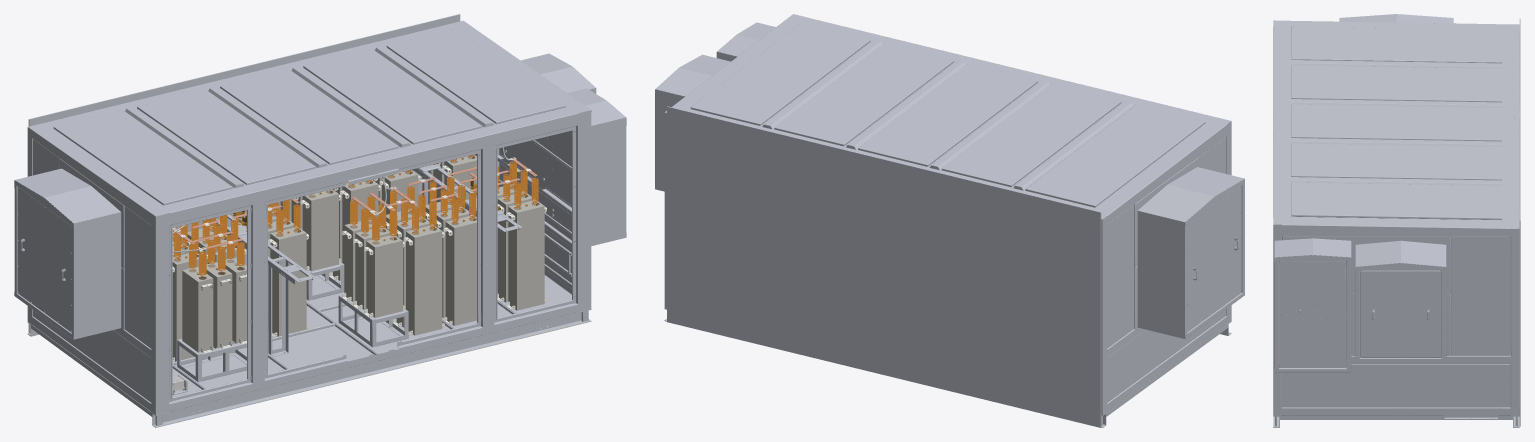
File: panel_optimized_v4.glb
The picture shows the model from 3 angles, left to right: view 1: azimuth 30°, elevation 25°; view 2: azimuth 150°, elevation 25°; view 3: azimuth 270°, elevation 25°; orthographic projection. The views are drawn at different scales.
Parts seen in each view (by area): view 1: frame_structure, cable_assembly, door_panel_center, door_panel_right, door_panel_left; view 2: frame_structure, door_panel_left, door_panel_right, door_panel_center; view 3: frame_structure, door_panel_right.
Boxes of the visible parts, x1=… form: frame_structure: x1=14, y1=20, x2=626, y2=427; cable_assembly: x1=169, y1=155, x2=538, y2=278; door_panel_center: x1=172, y1=49, x2=316, y2=260; door_panel_right: x1=316, y1=14, x2=460, y2=211; door_panel_left: x1=28, y1=84, x2=172, y2=332; frame_structure: x1=655, y1=14, x2=1244, y2=427; door_panel_left: x1=956, y1=177, x2=1101, y2=427; door_panel_right: x1=667, y1=106, x2=811, y2=357; door_panel_center: x1=811, y1=141, x2=955, y2=392; frame_structure: x1=1273, y1=14, x2=1519, y2=427; door_panel_right: x1=1519, y1=153, x2=1520, y2=426.
Size of the model in its own units: 6.76 by 2.58 by 2.81.
